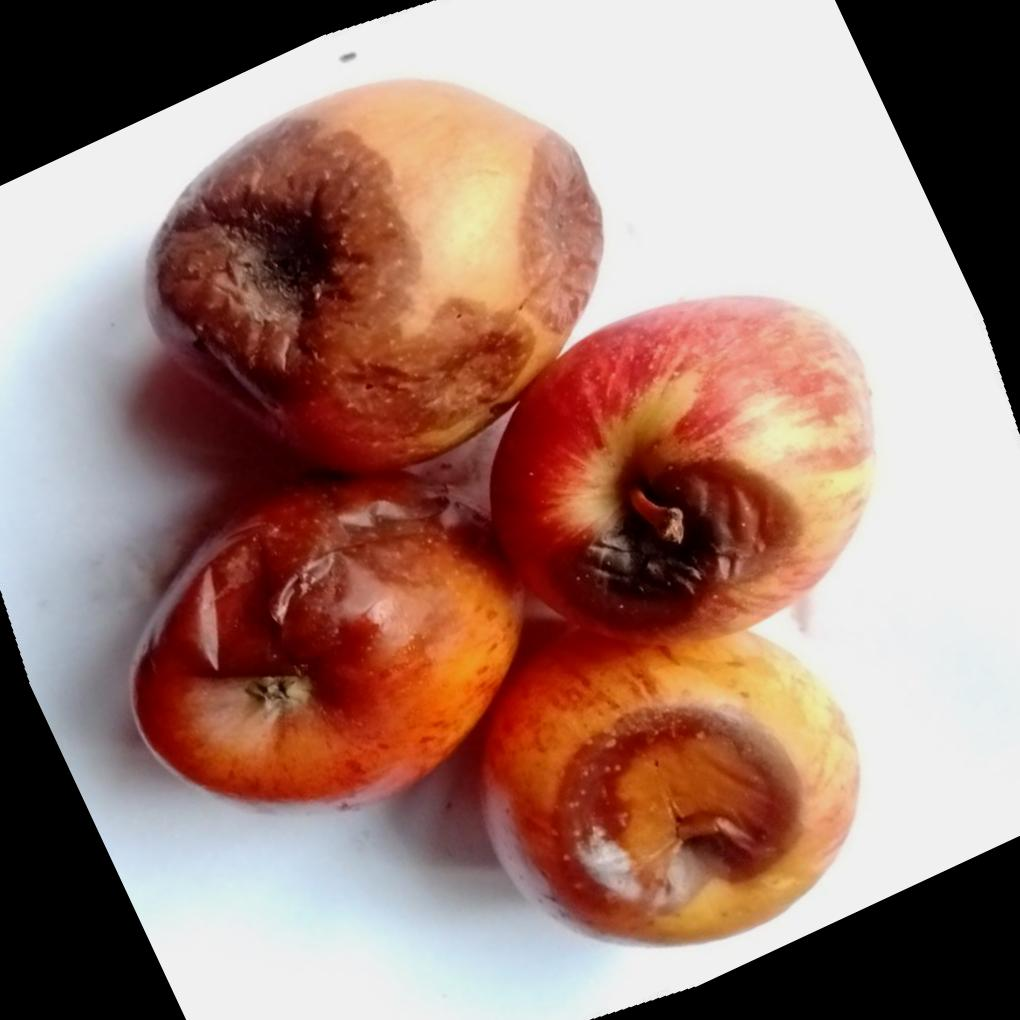FreshOrange: (127, 79, 875, 948)
